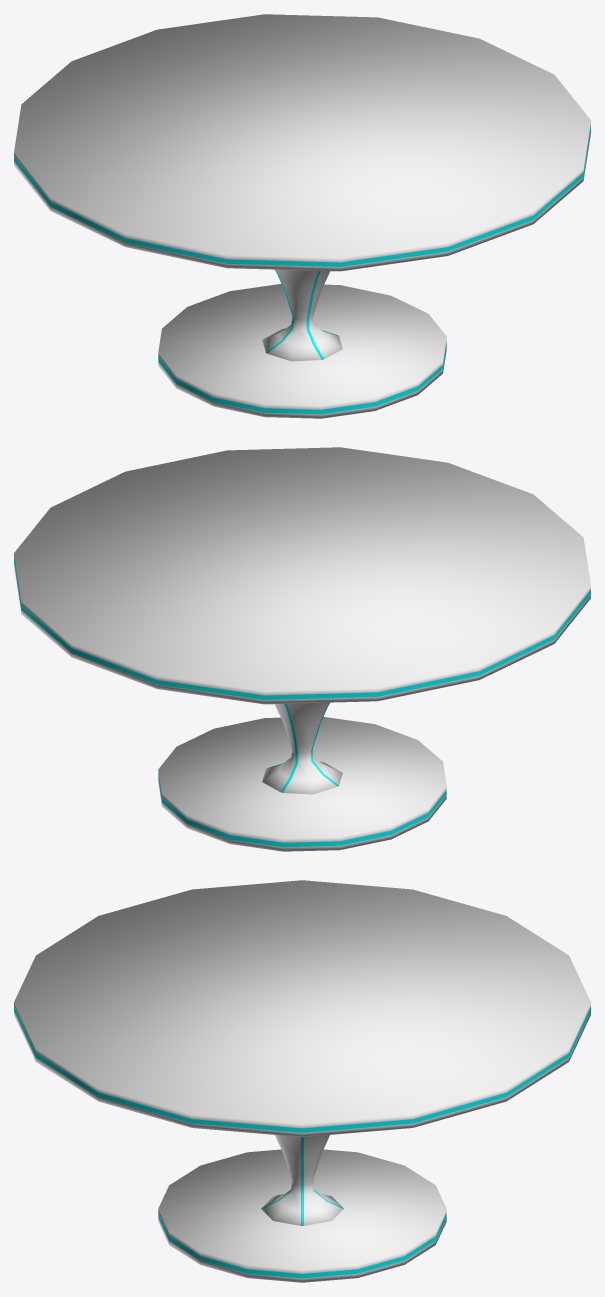
File: Round Table.fbx
The picture shows the model from 3 angles, top to bottom: view 1: azimuth 30°, elevation 25°; view 2: azimuth 150°, elevation 25°; view 3: azimuth 270°, elevation 25°; orthographic projection.
Parts seen in each view (by area): view 1: Cylinder, Cylinder.001, Center 1; view 2: Cylinder, Cylinder.001, Center 1; view 3: Cylinder, Cylinder.001, Center 1.
Boxes of the visible parts, x1=… form: Cylinder: x1=14, y1=14, x2=590, y2=271; Cylinder.001: x1=158, y1=283, x2=446, y2=418; Center 1: x1=262, y1=269, x2=342, y2=361; Cylinder: x1=14, y1=447, x2=590, y2=704; Cylinder.001: x1=158, y1=716, x2=446, y2=851; Center 1: x1=262, y1=702, x2=342, y2=794; Cylinder: x1=14, y1=880, x2=590, y2=1137; Cylinder.001: x1=158, y1=1149, x2=446, y2=1282; Center 1: x1=261, y1=1135, x2=343, y2=1225.
Size of the model in its own units: 9.81 by 9.81 by 4.12.
